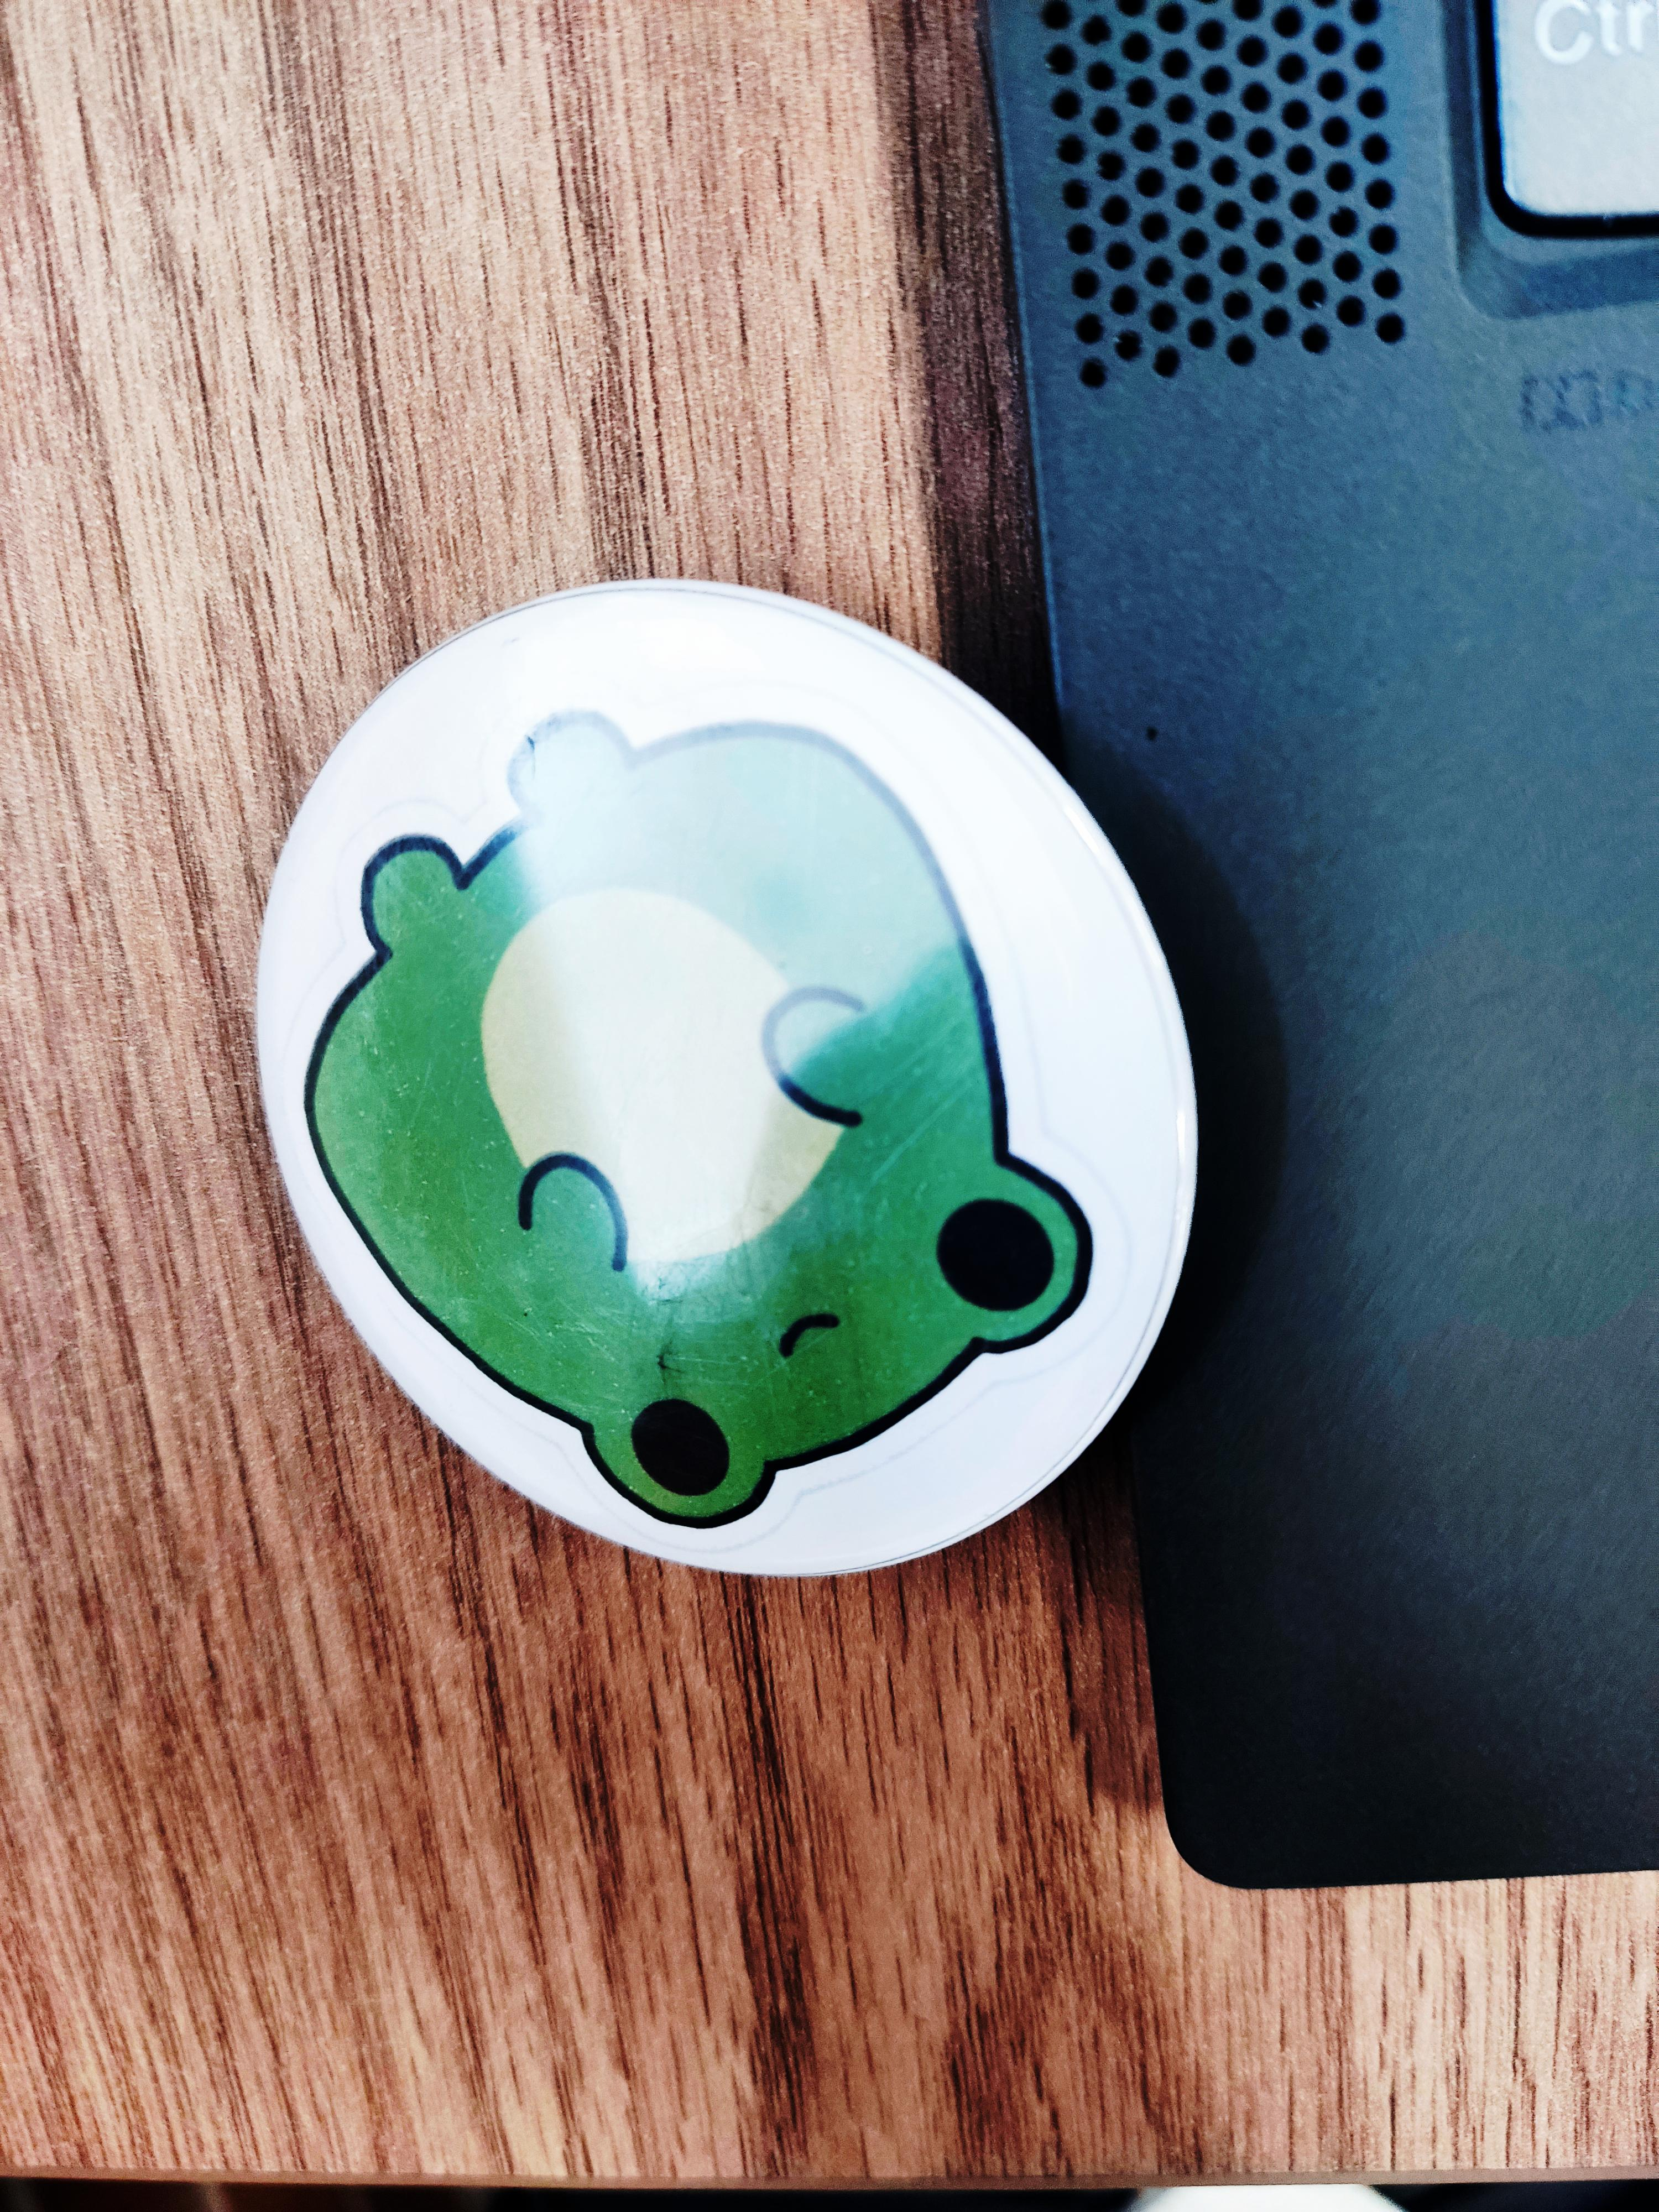pin: (237, 561, 1220, 1592)
